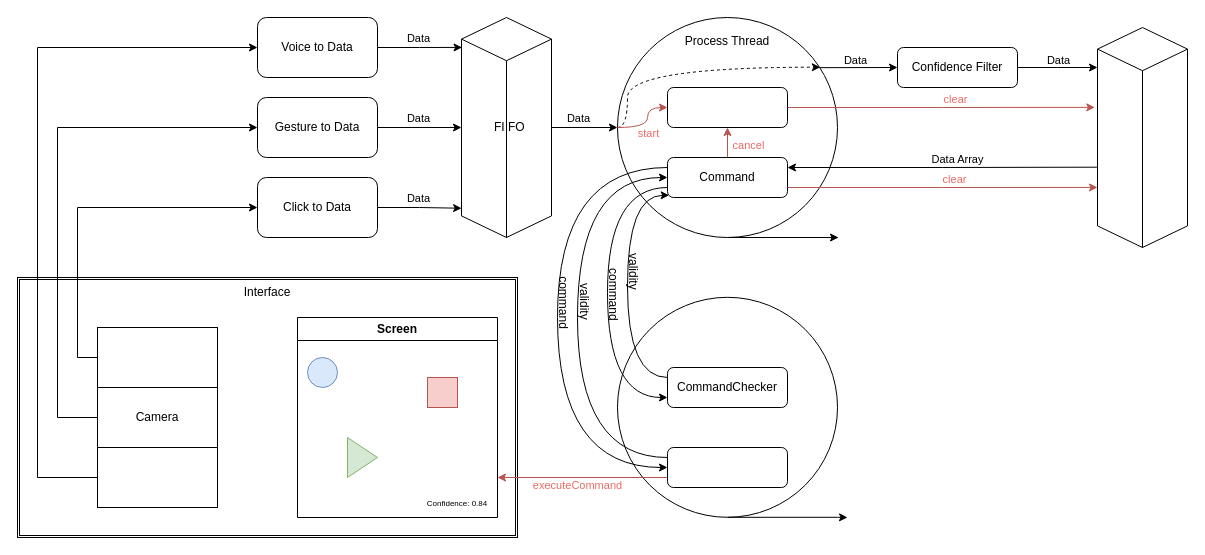
Image size: 1205x555. Some labels were removed from this diagram. The shapes that lost their labels are listed below. From the top down, each one's box as (x1, y1, x2, y2) in pixels, then its label:
(666, 86, 788, 128): Timer
(1096, 26, 1188, 248): Slot Array
(96, 326, 218, 388): Mouse
(616, 296, 838, 517): App Thread
(96, 446, 218, 508): Microphone
(666, 446, 788, 488): CommandExecutor
